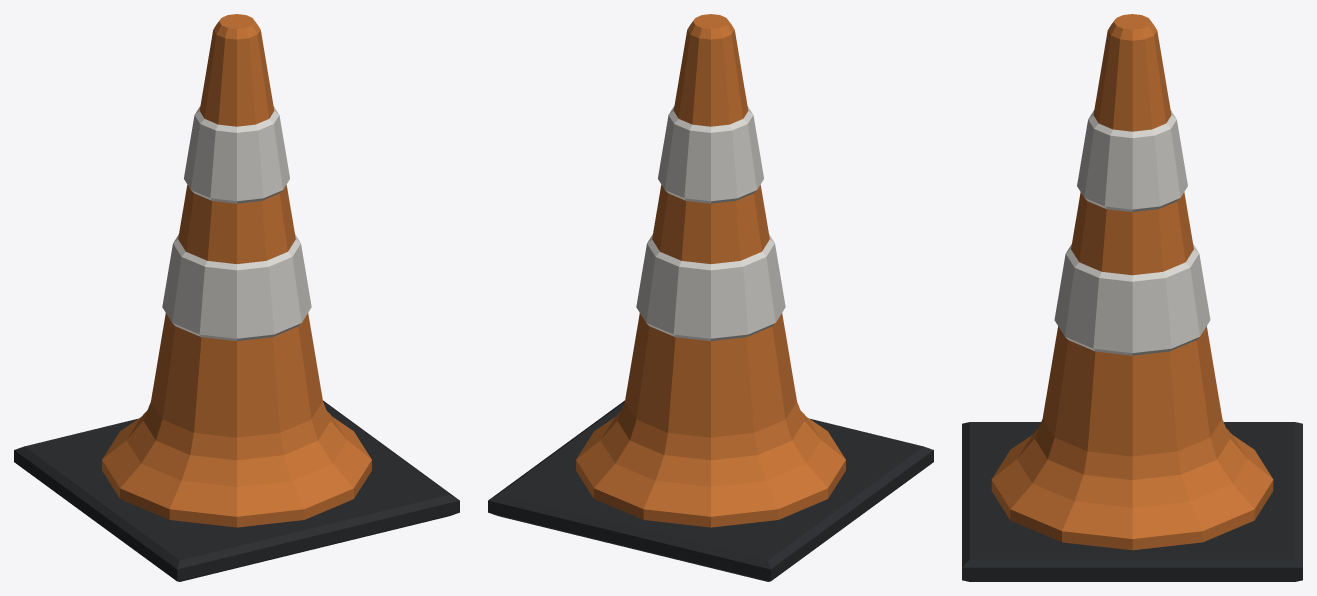
File: traffic-cone.glb
The picture shows the model from 3 angles, left to right: view 1: azimuth 30°, elevation 25°; view 2: azimuth 150°, elevation 25°; view 3: azimuth 270°, elevation 25°; orthographic projection. The views are drawn at different scales.
Visible parts, largest first — view 1: cone; view 2: cone; view 3: cone.
Boxes of the visible parts, box(x1,y1,x2,y2) form: cone: box(14, 14, 459, 581); cone: box(488, 14, 933, 581); cone: box(962, 14, 1302, 581).
Size of the model in its own units: 0.44 by 0.7 by 0.44.
